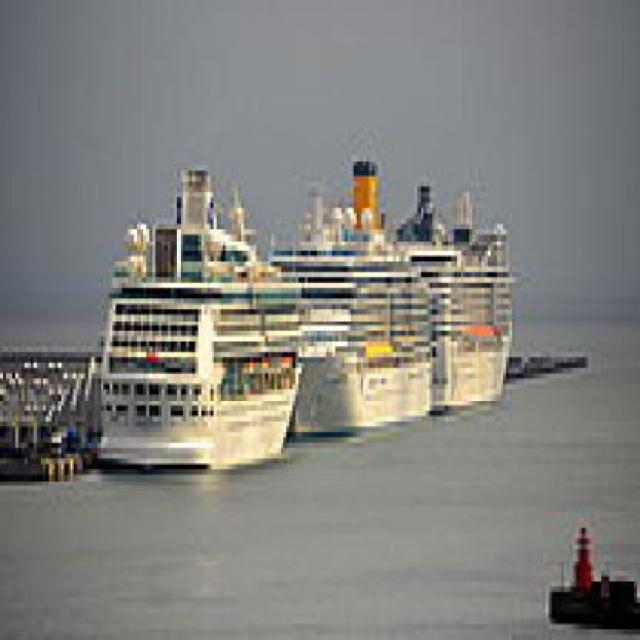cruise: (80, 156, 316, 482), (267, 156, 450, 454)
